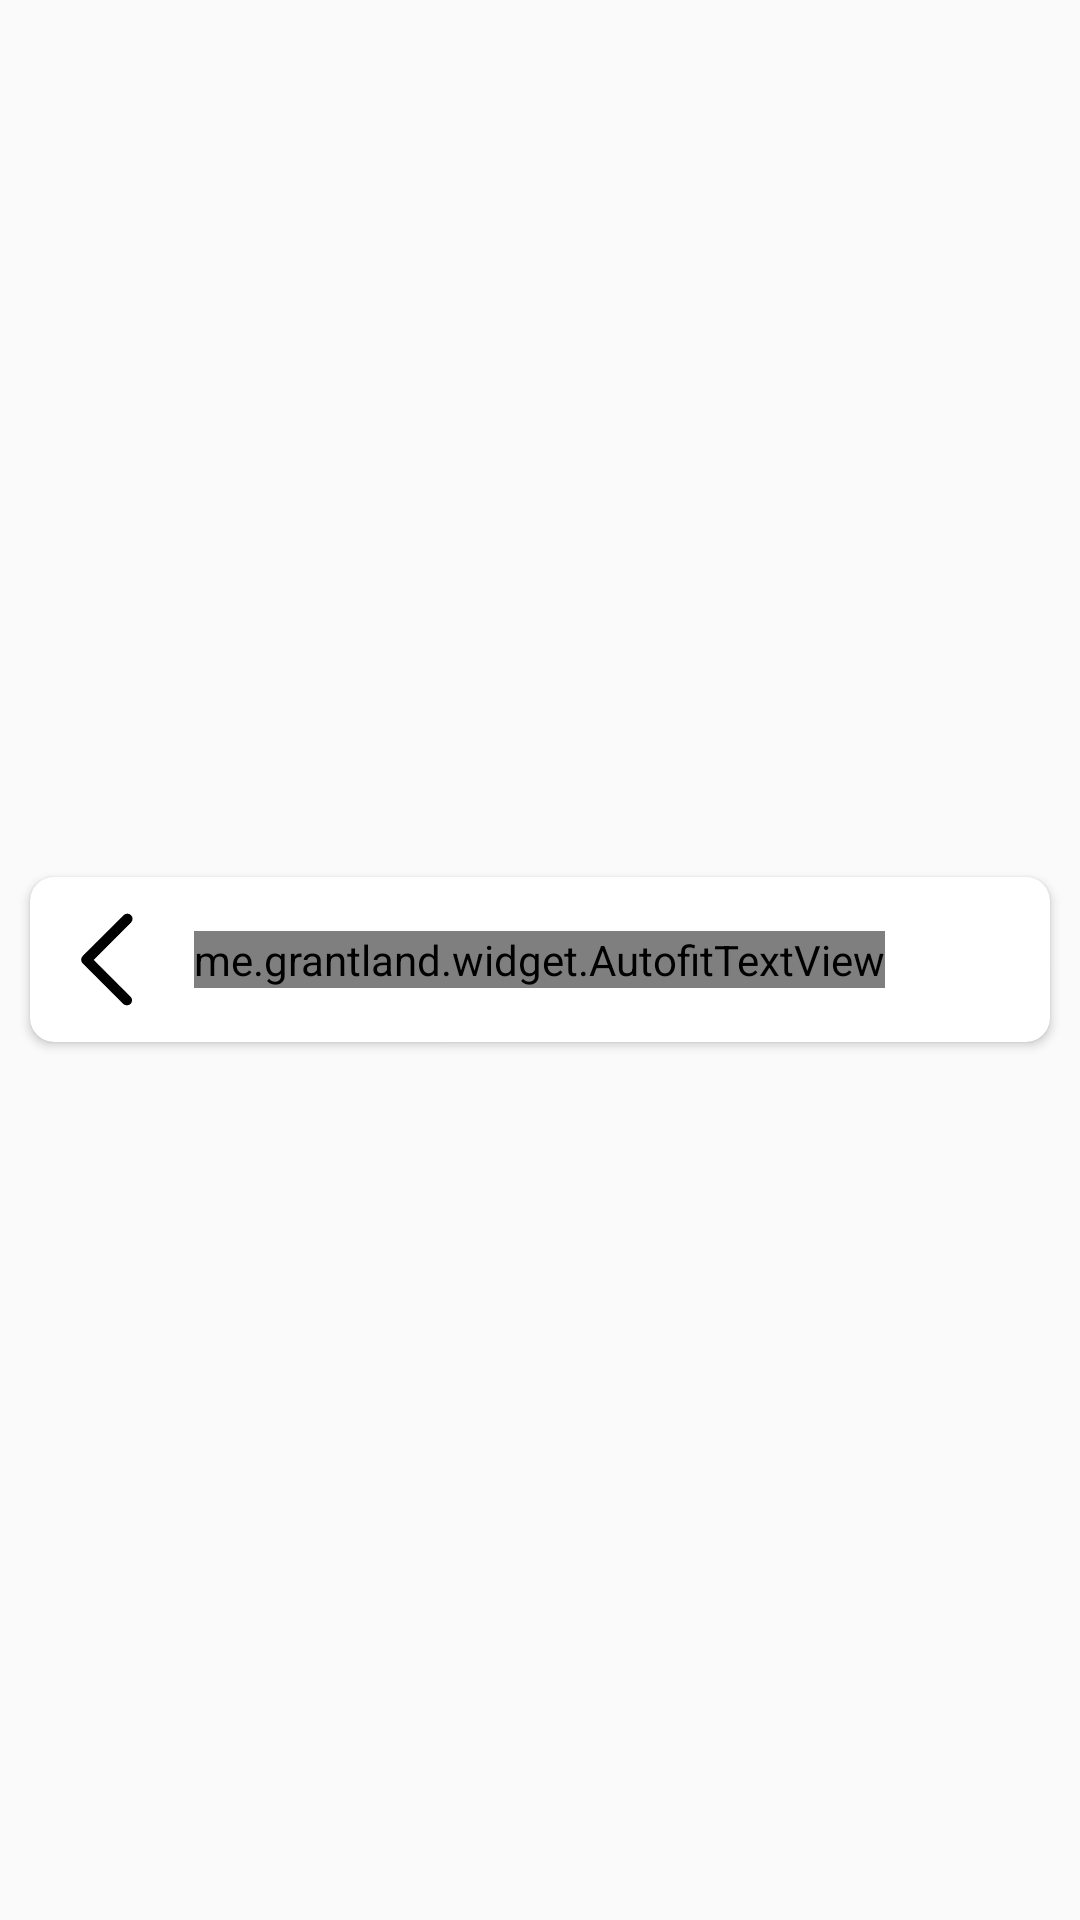

Where to tap for icons on this 1080w x 1920h app screen, as [x,y]:
arrow back: [107,959]
